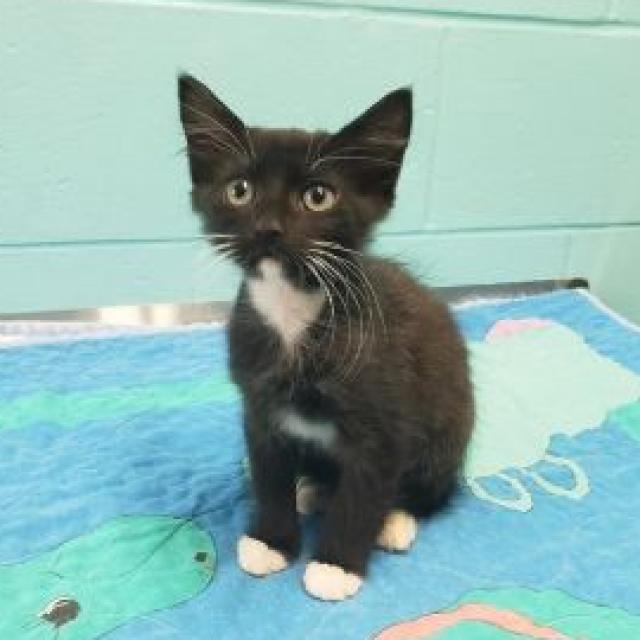Tuxedo: (175, 69, 481, 606)
